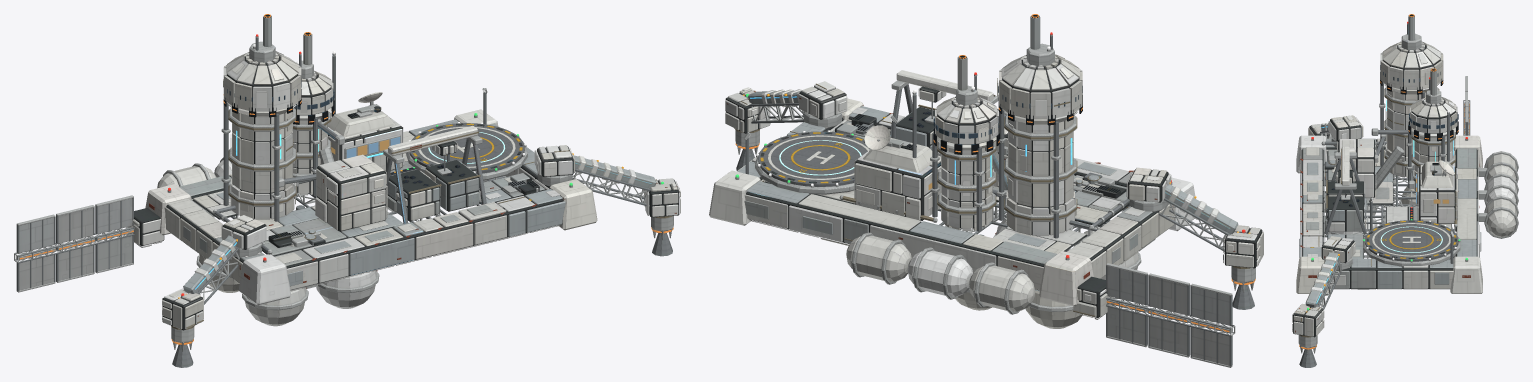
File: mining_platform.glb
3 views of the same model, side by side, from view 1: azimuth 30°, elevation 25°; view 2: azimuth 150°, elevation 25°; view 3: azimuth 270°, elevation 25° (orthographic). The views are drawn at different scales.
Visible parts, largest first — view 1: Hull_0, Hull_1, Lights; view 2: Hull_0, Hull_1, Lights; view 3: Hull_0, Hull_1, Lights, Glazing.
Boxes of the visible parts, left/top/right/bottom form: Hull_0: left=14, top=14, right=680, bottom=367; Hull_1: left=126, top=51, right=680, bottom=330; Lights: left=19, top=14, right=673, bottom=344; Hull_0: left=709, top=15, right=1260, bottom=367; Hull_1: left=725, top=55, right=1263, bottom=328; Lights: left=735, top=14, right=1255, bottom=332; Hull_0: left=1292, top=14, right=1518, bottom=367; Hull_1: left=1292, top=41, right=1516, bottom=337; Lights: left=1299, top=14, right=1469, bottom=349; Glazing: left=1380, top=65, right=1458, bottom=128.
Bounding box in the file's own units: 144 × 66.75 × 61.8.
3 materials, 2 textured.
